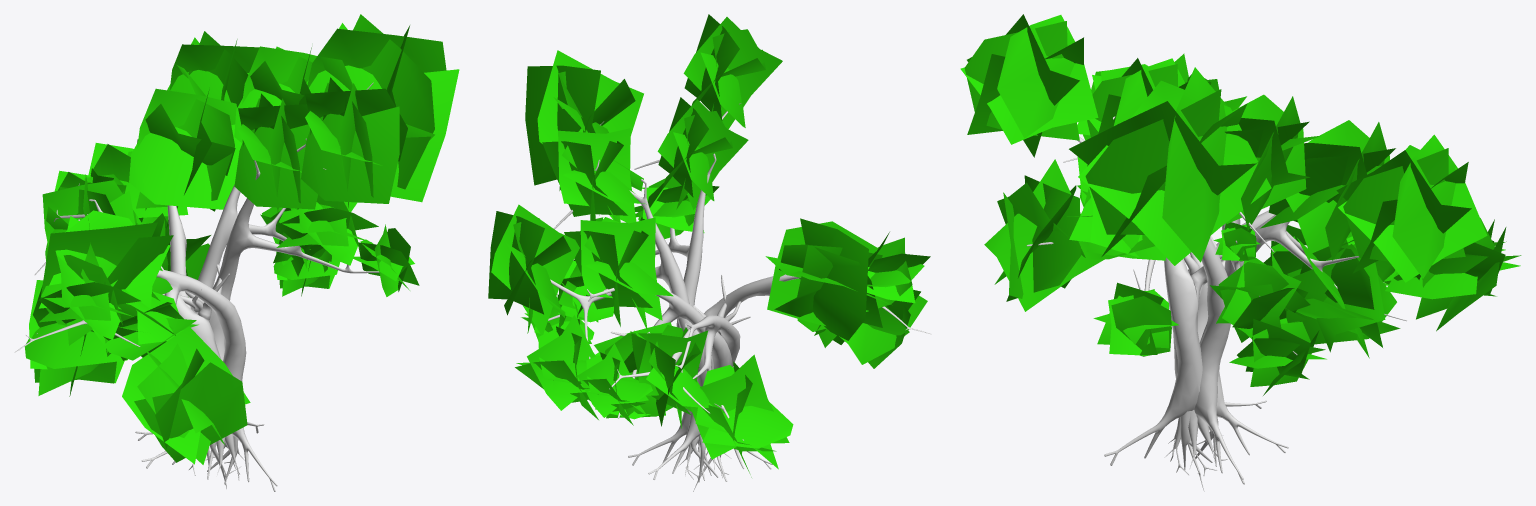
The model's file is tree.fbx.
3 renders of one model, left to right at view 1: azimuth 30°, elevation 25°; view 2: azimuth 150°, elevation 25°; view 3: azimuth 270°, elevation 25°, orthographic. The views are drawn at different scales.
Parts seen in each view (by area): view 1: Plane.002, Tree, Plane.004, Plane.016, Plane, Plane.018, Plane.001, Plane.009, Plane.015, Plane.003, Plane.014, Plane.005 (+8 smaller); view 2: Tree, Plane.018, Plane.002, Plane.003, Plane.004, Plane.009, Plane.005, Plane, Plane.001, Plane.008, Plane.006, Plane.007 (+6 smaller); view 3: Plane.002, Tree, Plane.003, Plane, Plane.016, Plane.004, Plane.019, Plane.005, Plane.006, Plane.011, Plane.013, Plane.010 (+5 smaller).
Boxes of the visible parts, x1,y1,x2,y2 form: Plane.002: [306, 14, 459, 202]; Tree: [14, 82, 379, 491]; Plane.004: [129, 88, 241, 229]; Plane.016: [122, 326, 250, 464]; Plane: [301, 77, 407, 207]; Plane.018: [39, 209, 173, 352]; Plane.001: [234, 93, 317, 214]; Plane.009: [24, 280, 127, 396]; Plane.015: [38, 255, 140, 339]; Plane.003: [167, 31, 259, 107]; Plane.014: [276, 195, 378, 265]; Plane.005: [234, 46, 316, 143]; Tree: [548, 103, 931, 491]; Plane.018: [765, 218, 891, 340]; Plane.002: [525, 50, 643, 219]; Plane.003: [488, 204, 579, 335]; Plane.004: [564, 217, 673, 331]; Plane.009: [690, 354, 793, 477]; Plane.005: [542, 128, 646, 223]; Plane: [683, 14, 782, 129]; Plane.001: [657, 97, 748, 209]; Plane.008: [631, 325, 708, 428]; Plane.006: [515, 315, 623, 419]; Plane.007: [577, 343, 652, 425]; Plane.002: [1069, 67, 1271, 265]; Tree: [1026, 116, 1406, 491]; Plane.003: [1336, 134, 1487, 282]; Plane: [960, 14, 1098, 157]; Plane.016: [984, 159, 1104, 311]; Plane.004: [1260, 120, 1395, 260]; Plane.019: [1287, 238, 1400, 358]; Plane.005: [1225, 94, 1320, 230]; Plane.006: [1385, 218, 1521, 331]; Plane.011: [1210, 258, 1310, 342]; Plane.013: [1093, 282, 1178, 356]; Plane.010: [1229, 319, 1326, 395].
Bounding box in the file's own units: 12657 × 12378 × 12548.
